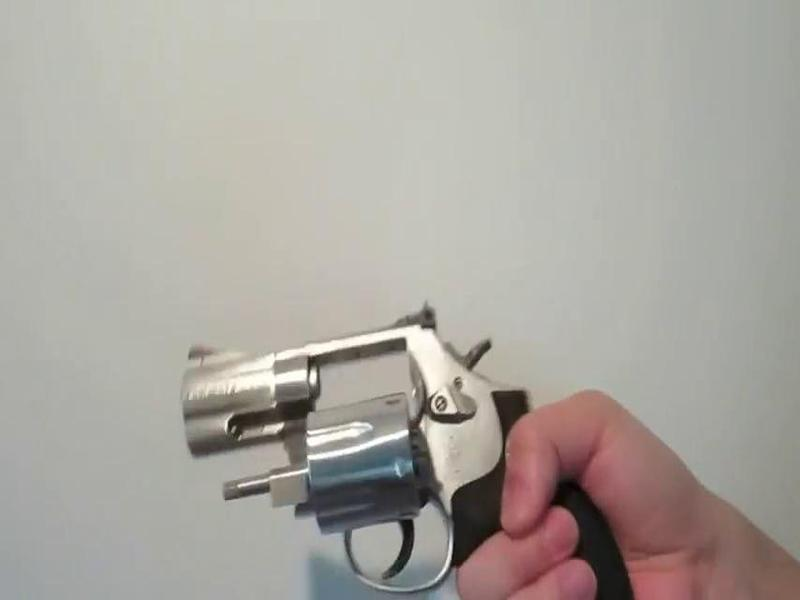Revolver: (145, 271, 657, 600)
